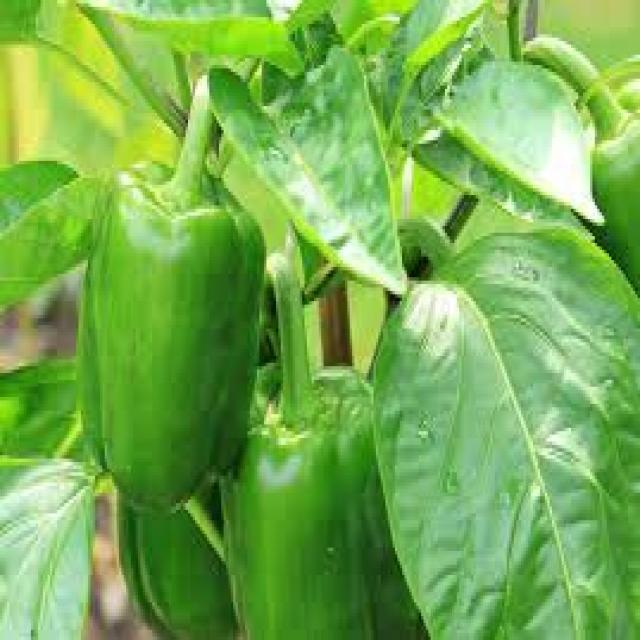Pepper: (78, 80, 266, 512), (220, 268, 385, 640)
